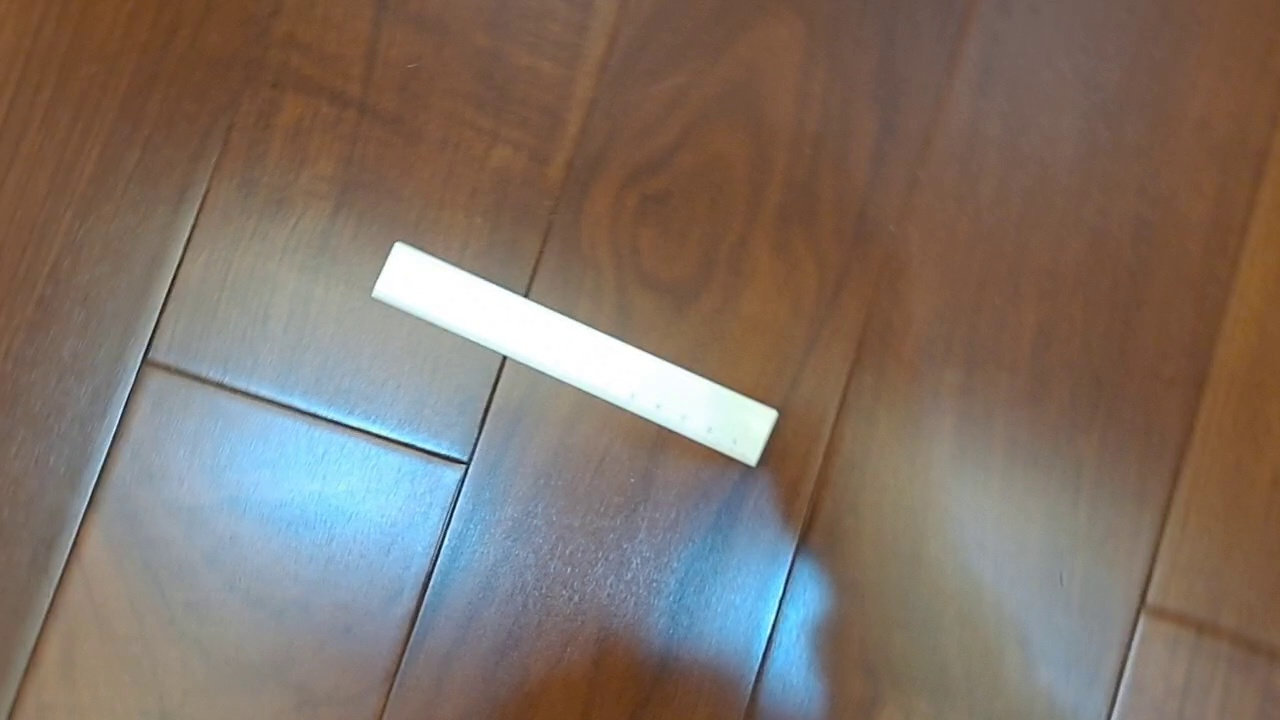ruler: (370, 239, 780, 469)
